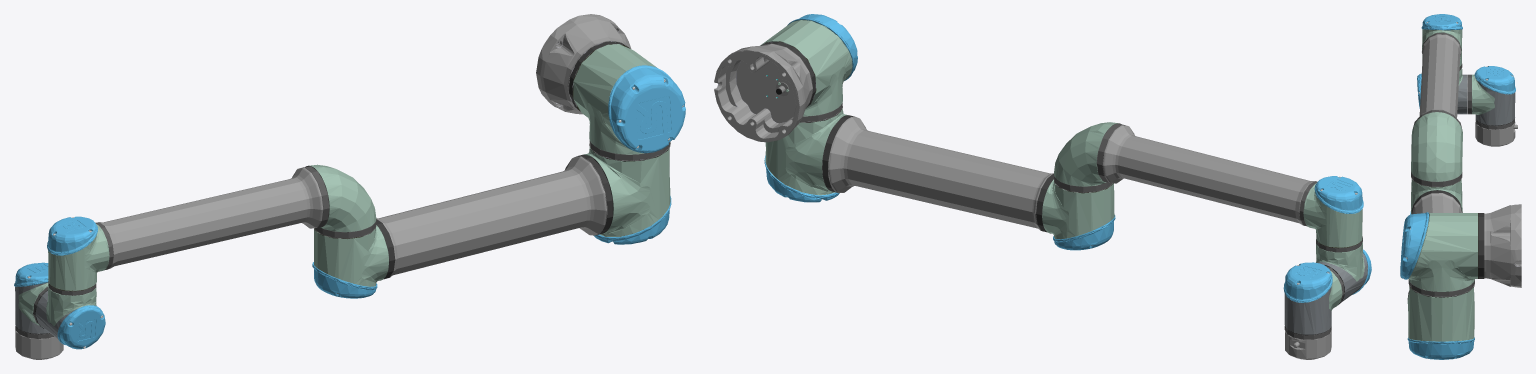
3 views of the same model, side by side, from view 1: azimuth 30°, elevation 25°; view 2: azimuth 150°, elevation 25°; view 3: azimuth 270°, elevation 25° (orthographic). The views are drawn at different scales.
Visible parts, largest first — view 1: UR10e; view 2: UR10e; view 3: UR10e.
Part boxes in pixels (box(x1,y1,x2,y2)): UR10e: box(14, 14, 685, 359); UR10e: box(714, 14, 1371, 359); UR10e: box(1400, 14, 1521, 359).
Bounding box in the file's own units: 133 × 38.56 × 27.49.
